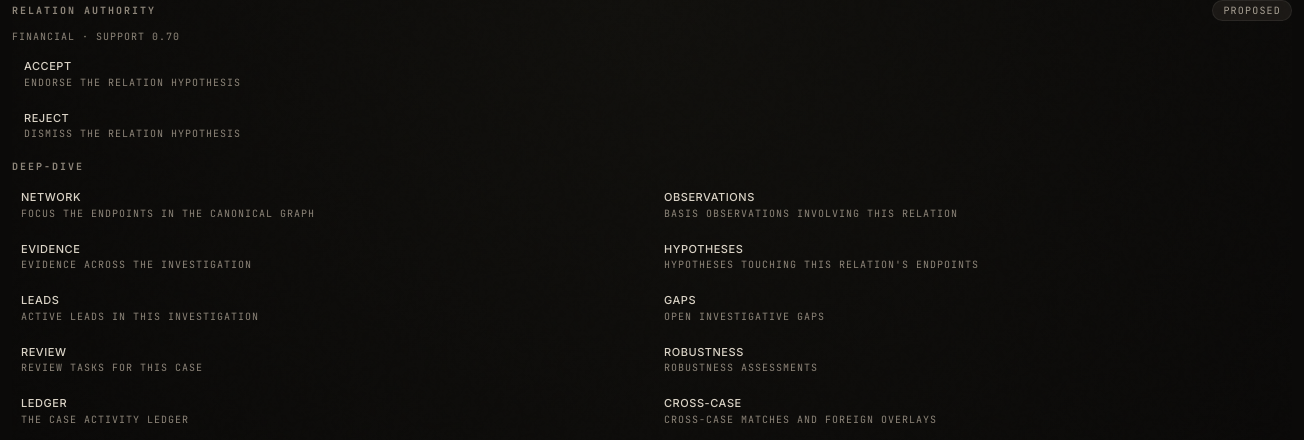
Test: PR-8 — footer composes the relation authority surface › re-selecting through the shell re-resolves the SAME relation to its new standing
Click the button "Accept Endorse the relation hypothesis": (48, 66) [12,52,1292,96]
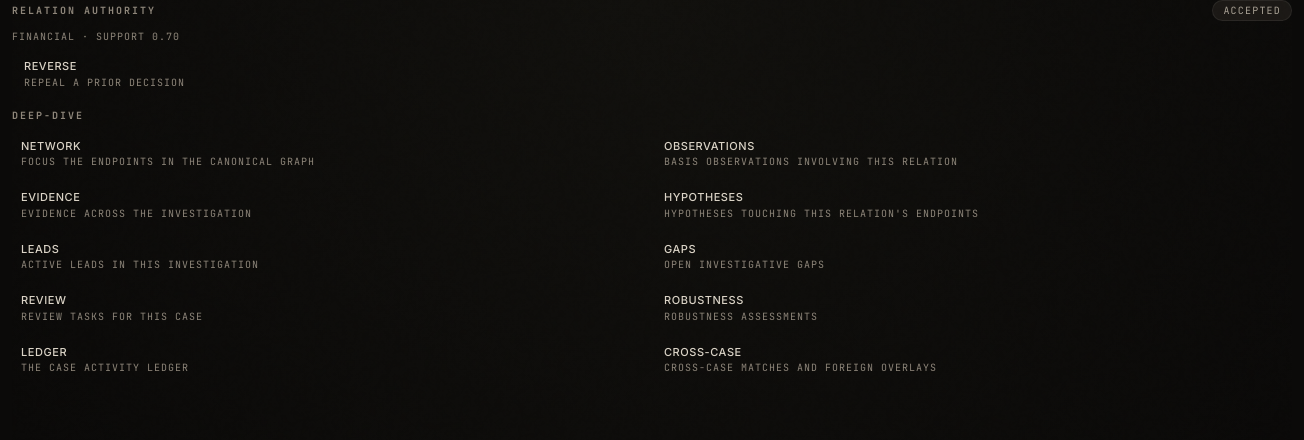
Now the text with test id "relation-authority-status" reads "Accepted", box [1223,4,1281,17]
